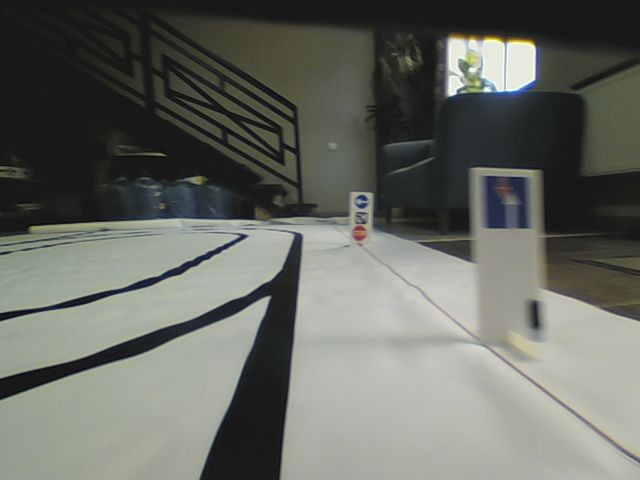priority_movement: (482, 174, 533, 230)
